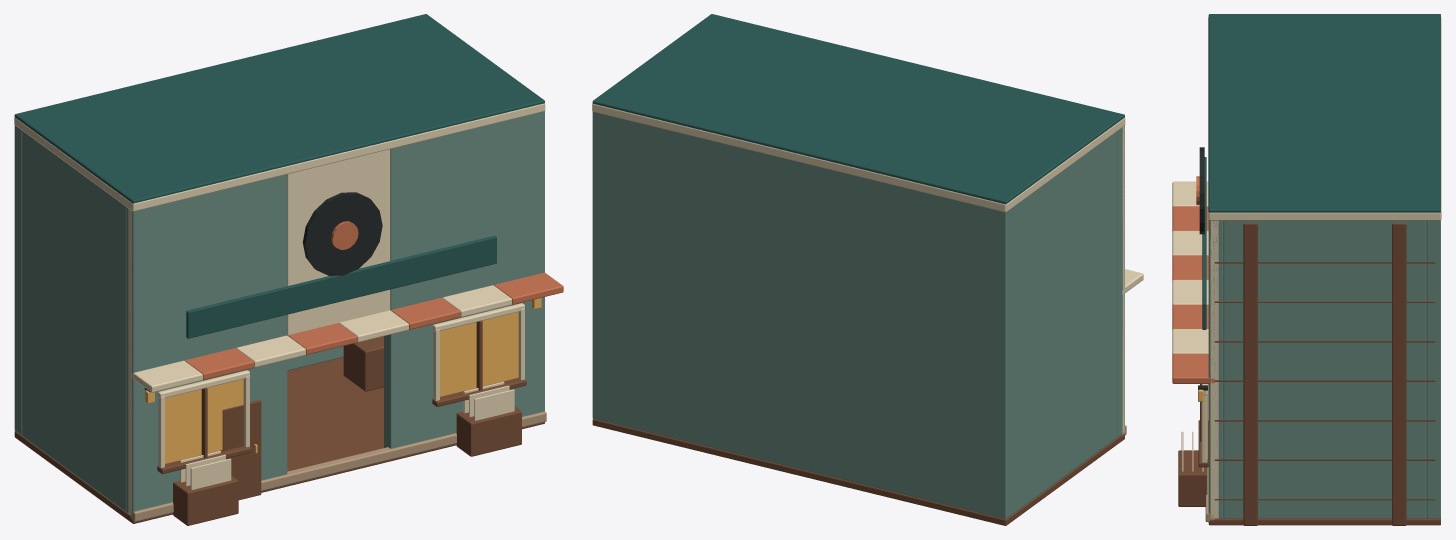
3 renders of one model, left to right at view 1: azimuth 30°, elevation 25°; view 2: azimuth 150°, elevation 25°; view 3: azimuth 270°, elevation 25°, orthographic. The views are drawn at different scales.
Parts seen in each view (by area): view 1: Roof_RemoveForInteriorReview, LeftWall, FrontWing.001, FrontWing, Floor, NQ-SGN-02, DoorHeader, WindowGraphicProxy.001, VinylSign, WindowGraphicProxy, CreamRoofCornice, PlinthBand (+19 smaller); view 2: RearWall, Roof_RemoveForInteriorReview, LeftWall, Floor, CreamRoofCornice.001, FrontWing, CreamSideCornice, CornerTrim; view 3: RightWall, Roof_RemoveForInteriorReview, SideBrickPilaster, SideBrickPilaster.001, RearWall, FrontWing.001, CornerTrim.001, CreamSideCornice.001, Floor, VinylCrate.001, AwningStripe.007, AwningStripe.006 (+16 smaller).
Part boxes in pixels (box(x1,y1,x2,y2)): Roof_RemoveForInteriorReview: box(14, 14, 544, 203); LeftWall: box(22, 131, 126, 511); FrontWing.001: box(384, 111, 544, 448); FrontWing: box(126, 174, 287, 514); Floor: box(14, 357, 544, 523); NQ-SGN-02: box(186, 235, 496, 338); DoorHeader: box(287, 149, 390, 335); WindowGraphicProxy.001: box(440, 312, 518, 396); VinylSign: box(302, 192, 382, 275); WindowGraphicProxy: box(165, 379, 243, 463); CreamRoofCornice: box(133, 103, 545, 211); PlinthBand: box(130, 411, 546, 521); RearWall: box(592, 112, 1012, 519); Roof_RemoveForInteriorReview: box(592, 14, 1124, 204); LeftWall: box(1013, 131, 1117, 513); Floor: box(592, 418, 1124, 525); CreamRoofCornice.001: box(592, 103, 1005, 212); FrontWing: box(1117, 126, 1124, 436); CreamSideCornice: box(1006, 117, 1125, 212); CornerTrim: box(1122, 126, 1124, 433); RightWall: box(1223, 220, 1426, 518); Roof_RemoveForInteriorReview: box(1208, 14, 1440, 212); SideBrickPilaster: box(1243, 223, 1257, 525); SideBrickPilaster.001: box(1392, 223, 1406, 525); RearWall: box(1426, 220, 1440, 518); FrontWing.001: box(1208, 220, 1223, 518); CornerTrim.001: box(1210, 220, 1218, 518); CreamSideCornice.001: box(1209, 212, 1440, 220); Floor: box(1208, 518, 1440, 525); VinylCrate.001: box(1178, 450, 1207, 506); AwningStripe.007: box(1172, 353, 1214, 383); AwningStripe.006: box(1172, 329, 1208, 354).
Size of the model in its own units: 32.12 by 24 by 18.52.
